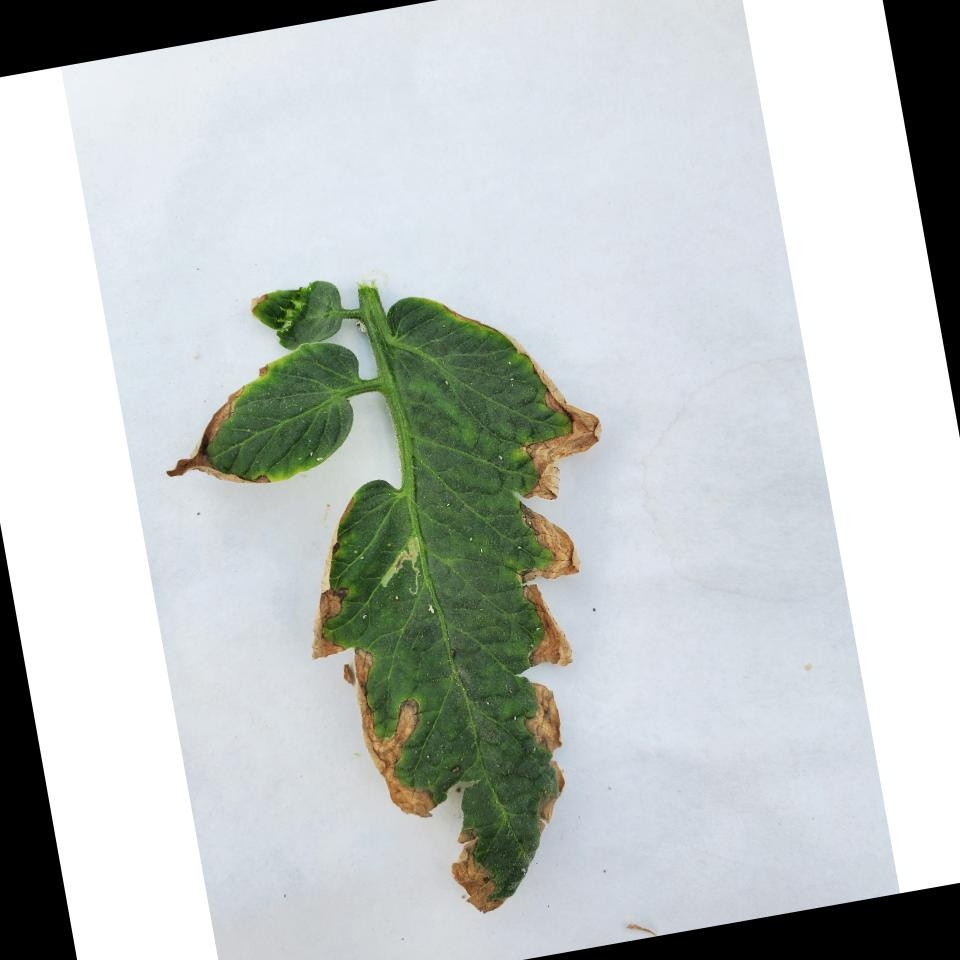tomato_bacterial_blight: (163, 230, 680, 952)
